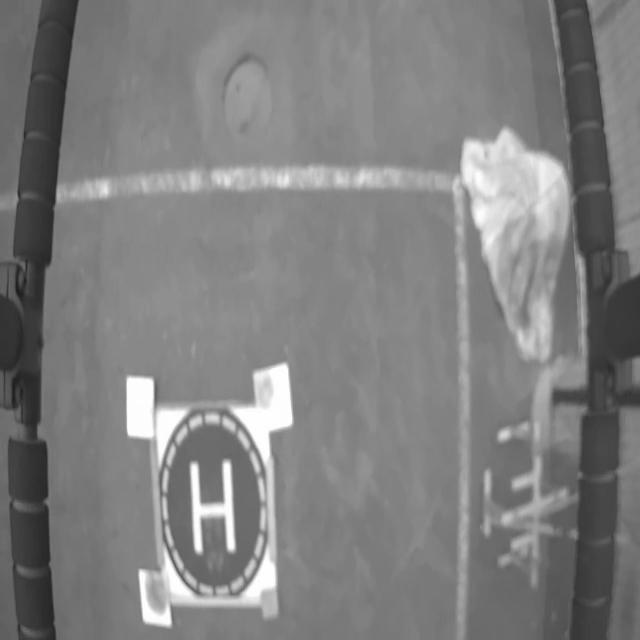Helipad: (189, 457, 236, 556)
